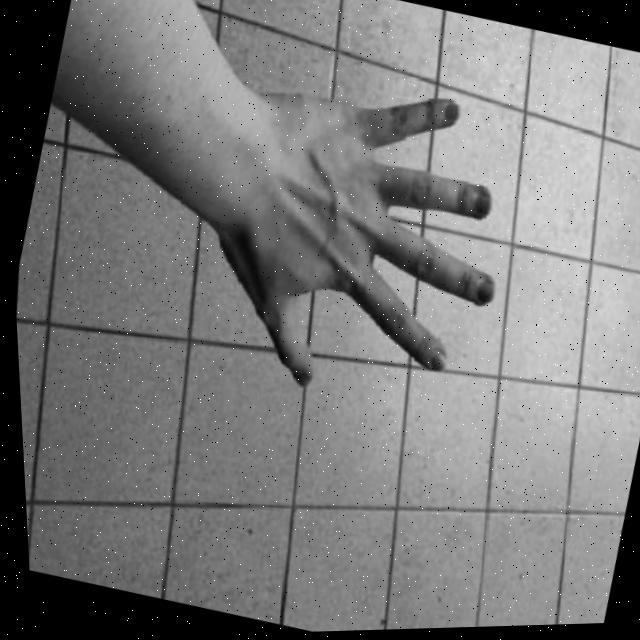no-gloves: (127, 12, 554, 444)
